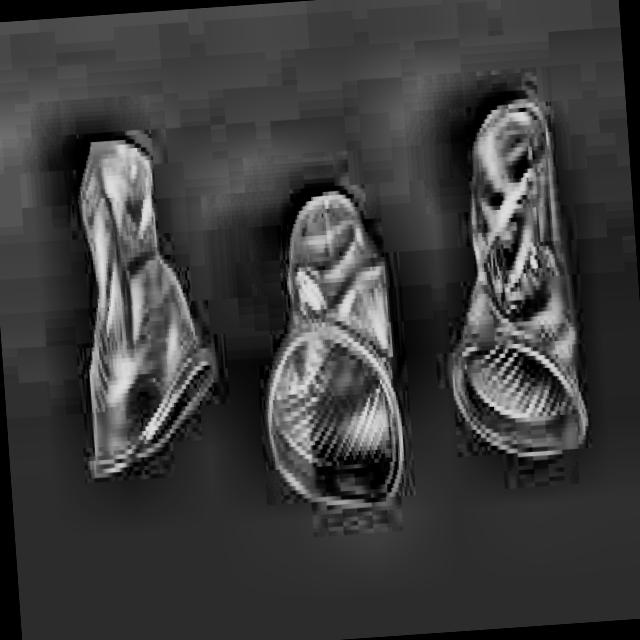plastic cup: (451, 99, 587, 457), (79, 139, 215, 475), (266, 191, 401, 507)
